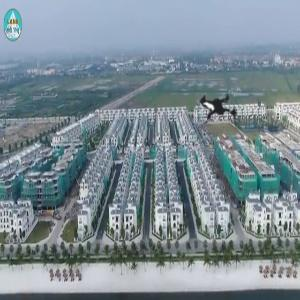drone: (177, 62, 265, 150)
